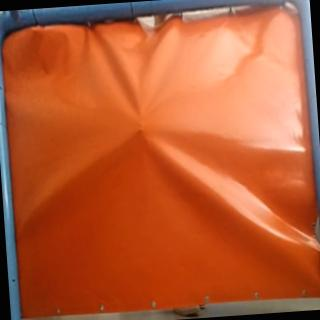Hit-hRxx: (132, 124, 150, 136)
